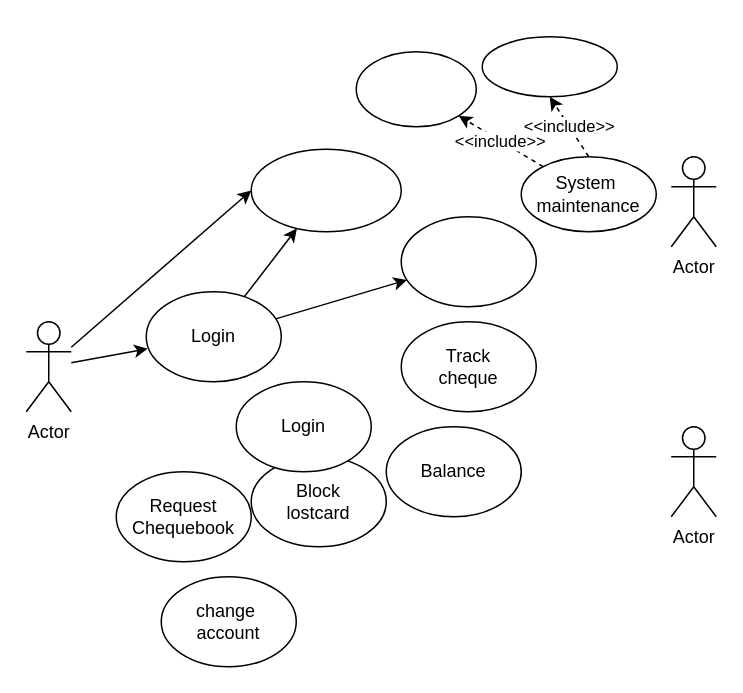
Some shapes in this 743 by 693 pixel diagram are drawn without their labels. The shapes that lost their labels are listed below. From the top down, each one's box as (x1, y1, x2, y2) in pixels, then its label:
(481, 35, 617, 97): Repair system
(355, 50, 476, 127): Shutdown system
(250, 148, 401, 232): close Application
(400, 215, 536, 307): manage password
